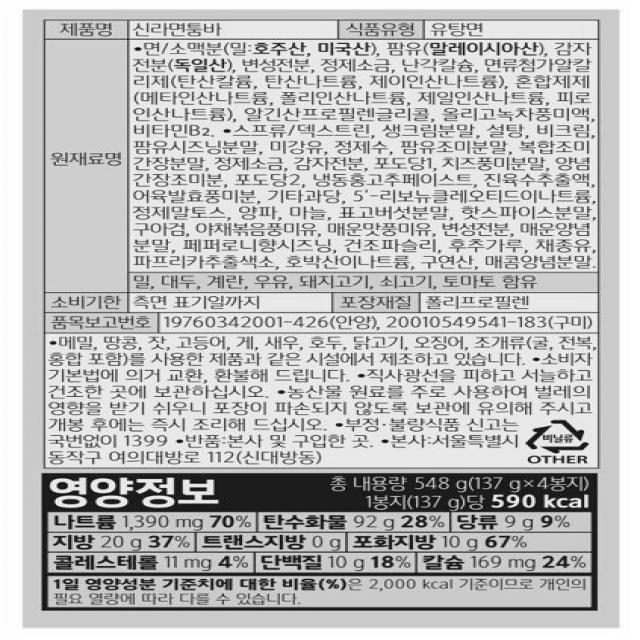Nutrition Label: (33, 472, 619, 605)
